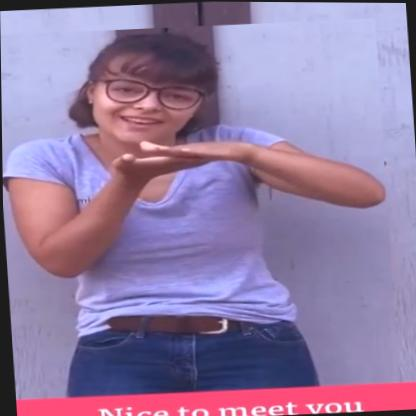NiceToMeetYou: (0, 15, 398, 403)
